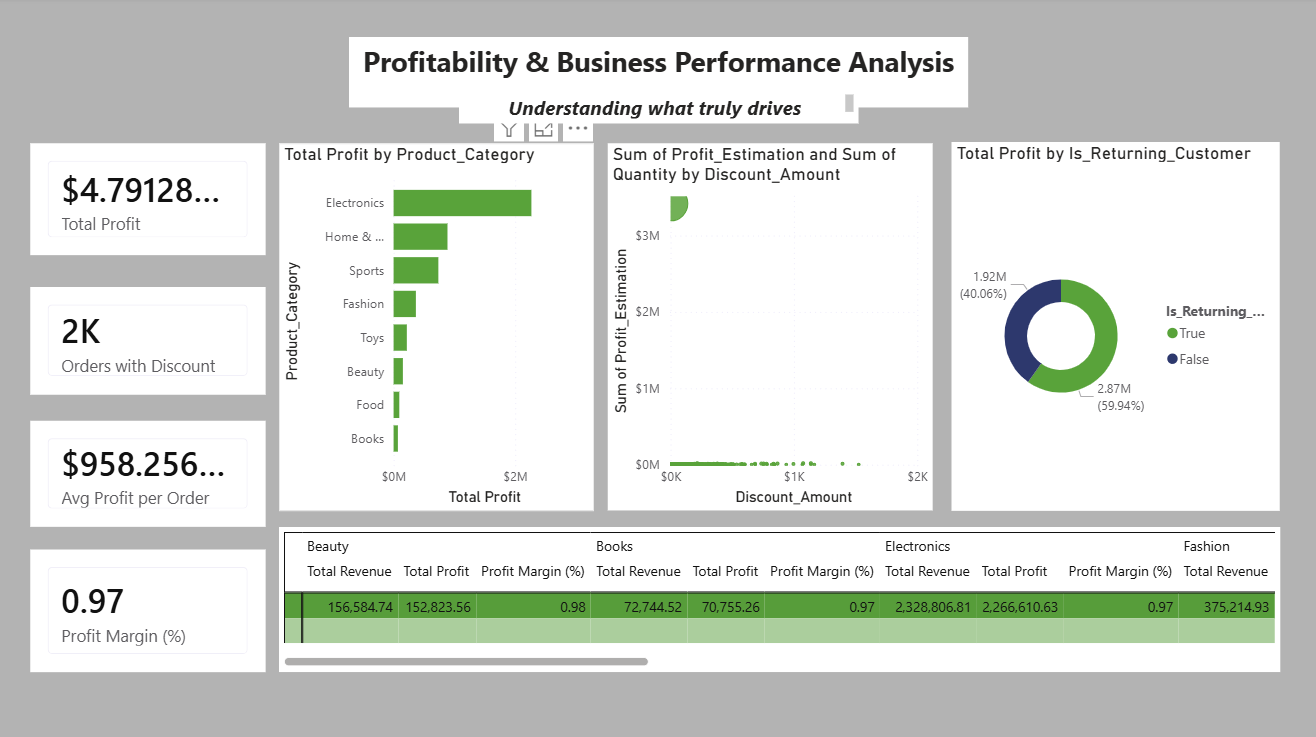

What the dashboard file says about the page in this screenshot:
{"tool":"powerbi","page":{"name":"Page 2","canvas":[1280,720],"ordinal":1},"visuals":[{"type":"cardVisual","fields":{"Data":["02_cleaned_ecommerce.Total Profit"]},"box":[34.6,141.1,227.5,108],"z":0},{"type":"cardVisual","fields":{"Data":["02_cleaned_ecommerce.Profit Margin (%)"]},"box":[34.6,532.8,227.5,118.1],"z":1000},{"type":"cardVisual","fields":{"Data":["02_cleaned_ecommerce.Orders with Discount"]},"box":[34.6,279.4,227.5,103.7],"z":2000},{"type":"cardVisual","fields":{"Data":["02_cleaned_ecommerce.Avg Profit per Order"]},"box":[34.6,409,227.5,102.2],"z":3000},{"type":"barChart","fields":{"Category":["02_cleaned_ecommerce.Product_Category"],"Y":["02_cleaned_ecommerce.Total Profit"]},"box":[275,141.1,303.8,354.2],"z":4000},{"type":"scatterChart","fields":{"X":["02_cleaned_ecommerce.Discount_Amount"],"Y":["Sum(02_cleaned_ecommerce.Profit_Estimation)"],"Size":["Sum(02_cleaned_ecommerce.Quantity)"]},"box":[591.8,141.1,313.9,354.2],"z":5000},{"type":"donutChart","fields":{"Category":["02_cleaned_ecommerce.Is_Returning_Customer"],"Y":["02_cleaned_ecommerce.Total Profit"]},"box":[924.5,139.7,316.8,355.7],"z":6000},{"type":"pivotTable","fields":{"Columns":["02_cleaned_ecommerce.Product_Category"],"Values":["02_cleaned_ecommerce.Total Revenue","02_cleaned_ecommerce.Total Profit","02_cleaned_ecommerce.Profit Margin (%)"]},"box":[275,511.2,966.2,139.7],"z":7000},{"type":"textbox","box":[342.7,38.9,597.6,67.7],"z":8000},{"type":"textbox","box":[449.3,89.3,385.9,33.1],"z":9000}]}

Visuals, with their boxes in screenshot pixels (x1, y1, x2, y2):
cardVisual - 02_cleaned_ecommerce.Total Profit: <region>52, 153, 282, 262</region>
cardVisual - 02_cleaned_ecommerce.Profit Margin (%): <region>52, 548, 282, 667</region>
cardVisual - 02_cleaned_ecommerce.Orders with Discount: <region>52, 292, 282, 397</region>
cardVisual - 02_cleaned_ecommerce.Avg Profit per Order: <region>52, 423, 282, 526</region>
barChart - 02_cleaned_ecommerce.Product_Category x 02_cleaned_ecommerce.Total Profit: <region>295, 153, 601, 510</region>
scatterChart - 02_cleaned_ecommerce.Discount_Amount x Sum(02_cleaned_ecommerce.Profit_Estimation): <region>614, 153, 931, 510</region>
donutChart - 02_cleaned_ecommerce.Is_Returning_Customer x 02_cleaned_ecommerce.Total Profit: <region>950, 151, 1270, 510</region>
pivotTable - 02_cleaned_ecommerce.Product_Category x 02_cleaned_ecommerce.Total Revenue: <region>295, 526, 1270, 667</region>
textbox: <region>363, 50, 966, 118</region>
textbox: <region>471, 100, 860, 134</region>
